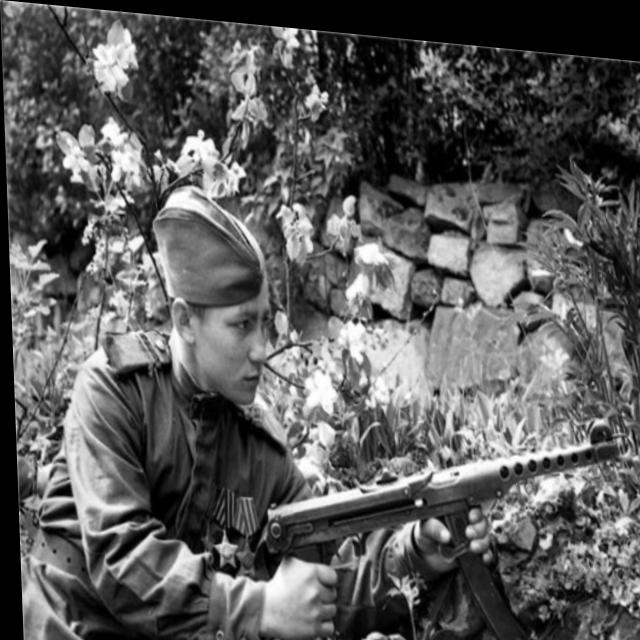other: (52, 182, 320, 640)
